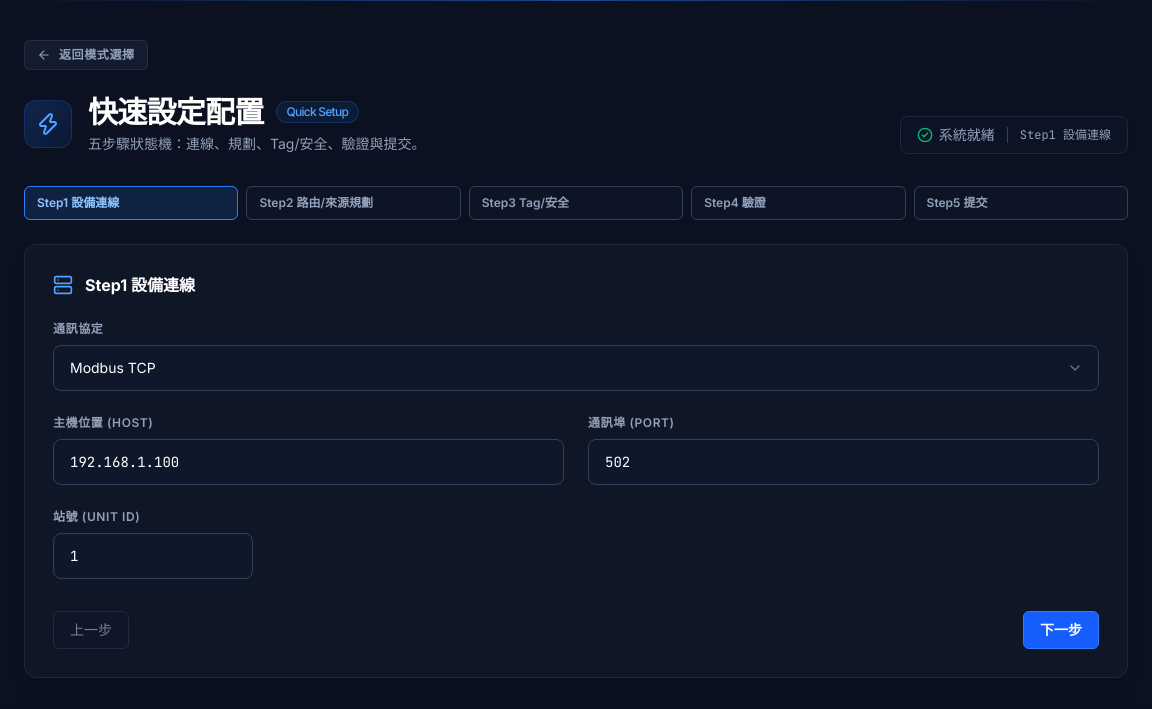
Test: GatewayQuickSetupPage › supports step navigation with next/back controls
Check: the heading "Step1 設備連線" is shown, box [85, 273, 195, 297]
Step 1. Click the button with test id "step-next-btn" → (1061, 630), box [1023, 611, 1099, 649]
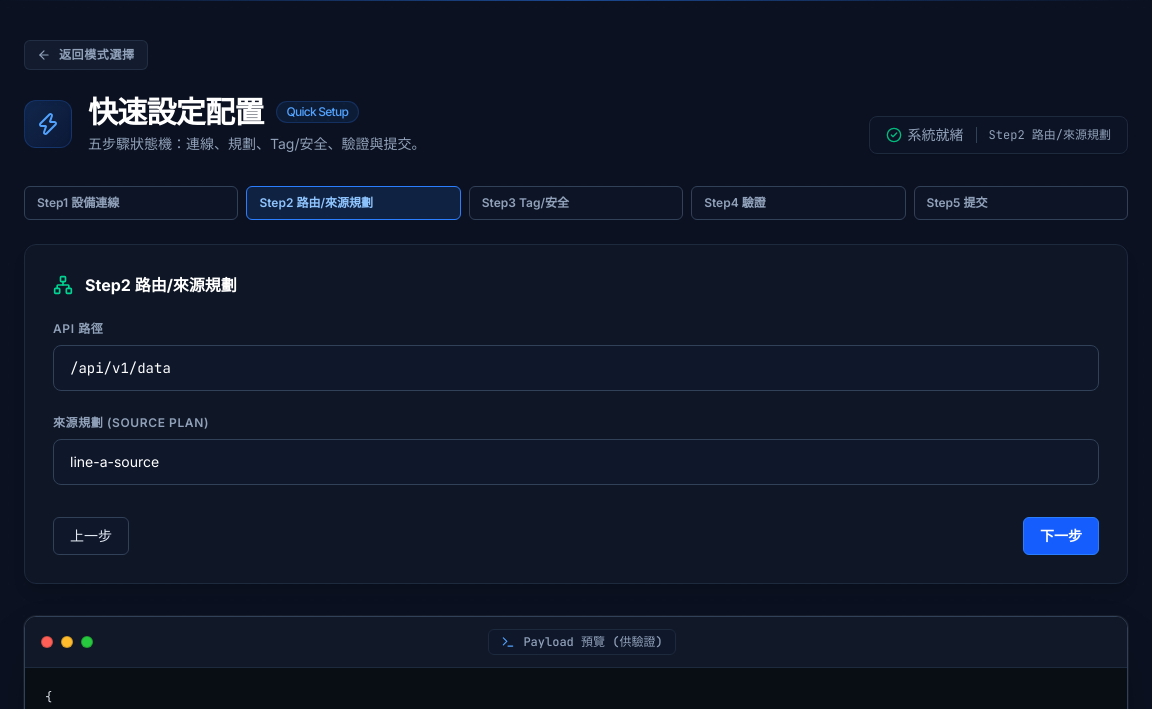
Check: the heading "Step2 路由/來源規劃" is shown, box [85, 273, 237, 297]
Step 2. Click the button with test id "step-back-btn" → (91, 536), box [53, 517, 129, 555]
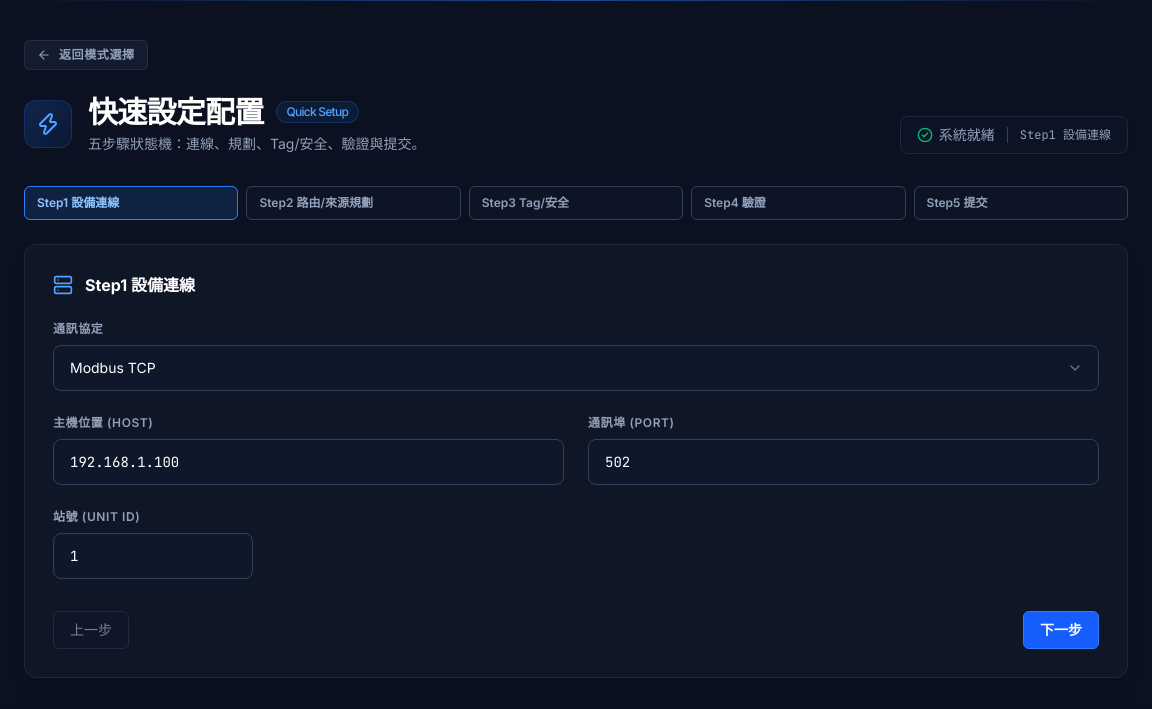
Check: the heading "Step1 設備連線" is shown, box [85, 273, 195, 297]
Check: the field with test id "host-input" is shown, box [53, 439, 564, 485]
